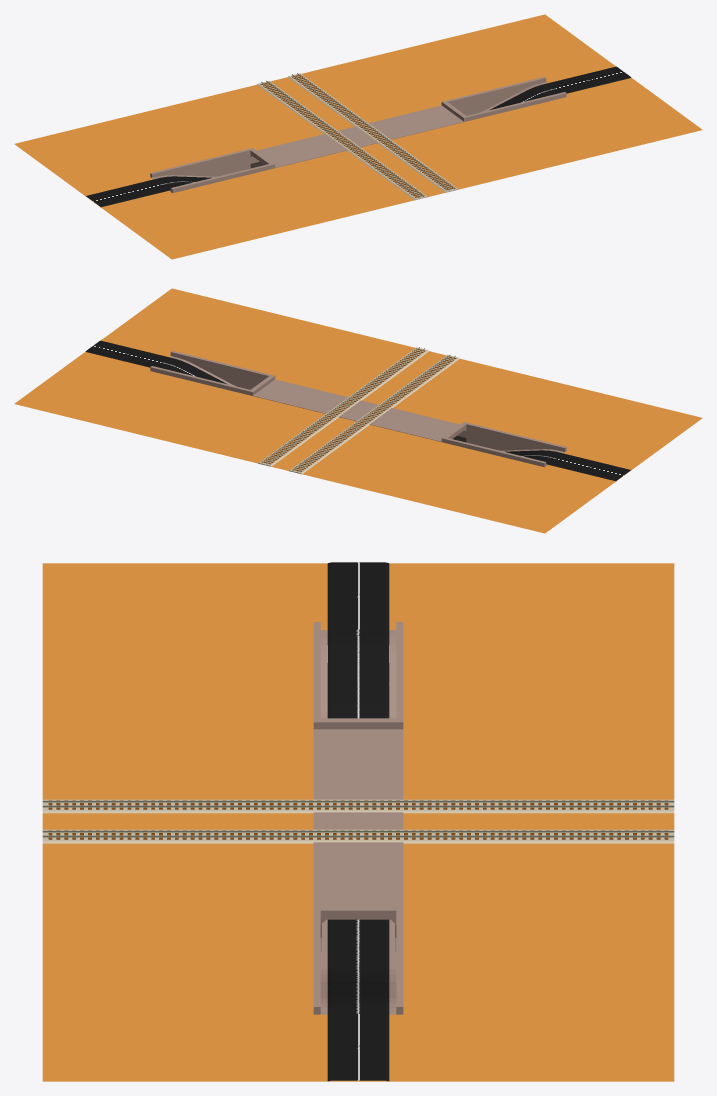
Rendered from Underpass.fbx.
3 renders of one model, top to bottom at view 1: azimuth 30°, elevation 25°; view 2: azimuth 150°, elevation 25°; view 3: azimuth 270°, elevation 25°, orthographic. The views are drawn at different scales.
Parts seen in each view (by area): view 1: SM_Underpass, SM_RoadTunel; view 2: SM_Underpass, SM_RoadTunel; view 3: SM_Underpass, SM_RoadTunel.
Boxes of the visible parts, x1,y1,x2,y2 form: SM_Underpass: (14,14,702,259); SM_RoadTunel: (85,66,631,207); SM_Underpass: (14,288,702,533); SM_RoadTunel: (85,340,631,481); SM_Underpass: (42,563,674,1081); SM_RoadTunel: (327,562,389,1081).
Size of what is drawn, in the model's own units: 8000 by 15527 by 572.
3 materials, 2 textured.
